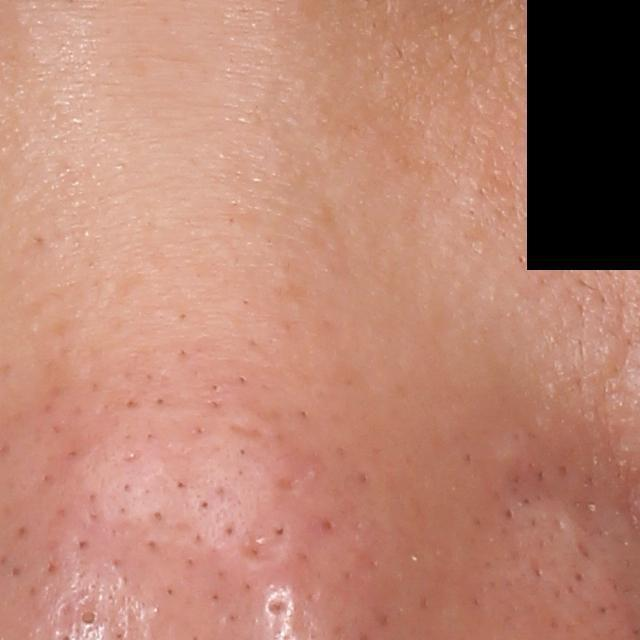comedo: (257, 594, 294, 623), (69, 606, 99, 629)
hypertrophic_scar: (493, 433, 530, 467)
